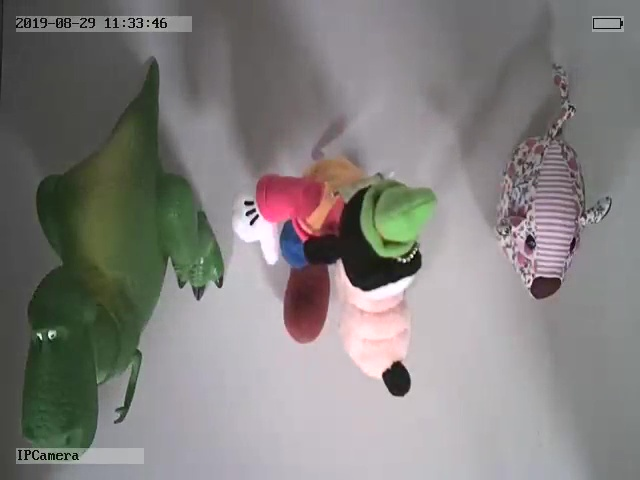goofy: (232, 156, 436, 402)
pig: (493, 64, 613, 299)
rex: (21, 57, 222, 448)
